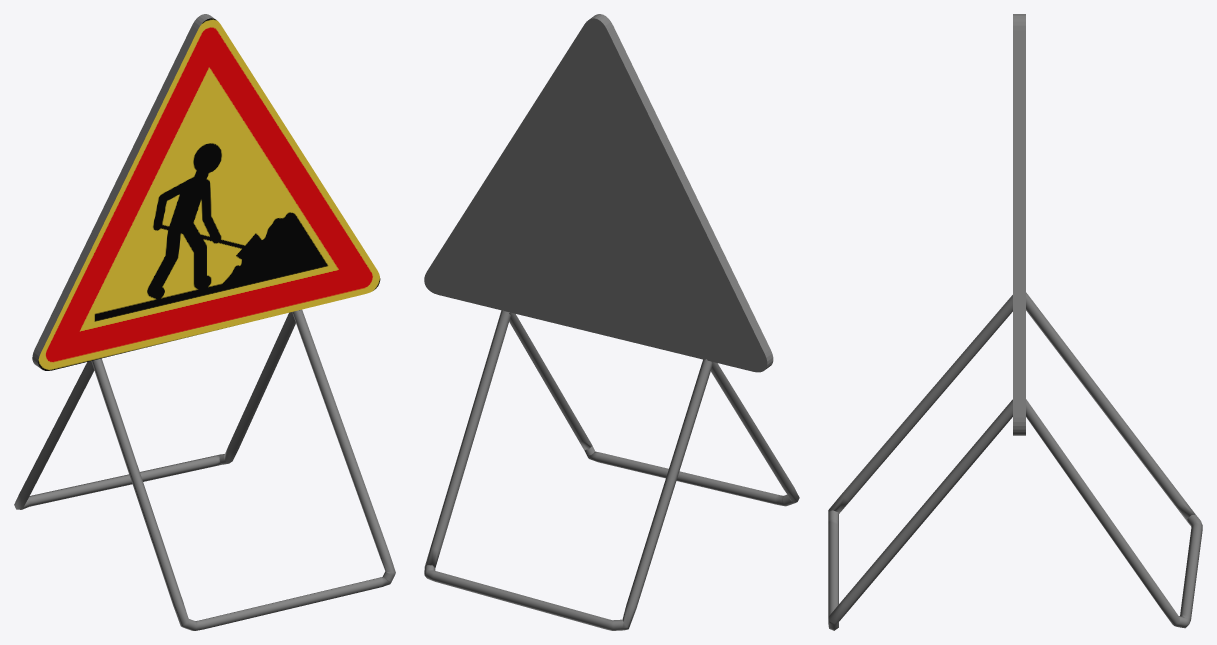
Rendered from panneau travaux.fbx.
The picture shows the model from 3 angles, left to right: view 1: azimuth 30°, elevation 25°; view 2: azimuth 150°, elevation 25°; view 3: azimuth 270°, elevation 25°; orthographic projection. The views are drawn at different scales.
Visible parts, largest first — view 1: NurbsPath.001; view 2: NurbsPath.001; view 3: NurbsPath.001.
Boxes of the visible parts, x1,y1,x2,y2 form: NurbsPath.001: [14, 14, 395, 630]; NurbsPath.001: [424, 14, 799, 630]; NurbsPath.001: [828, 14, 1202, 630].
Size of the model in its own units: 65.92 by 97.4 by 58.32.
Materials: 3 (1 with a texture image).
